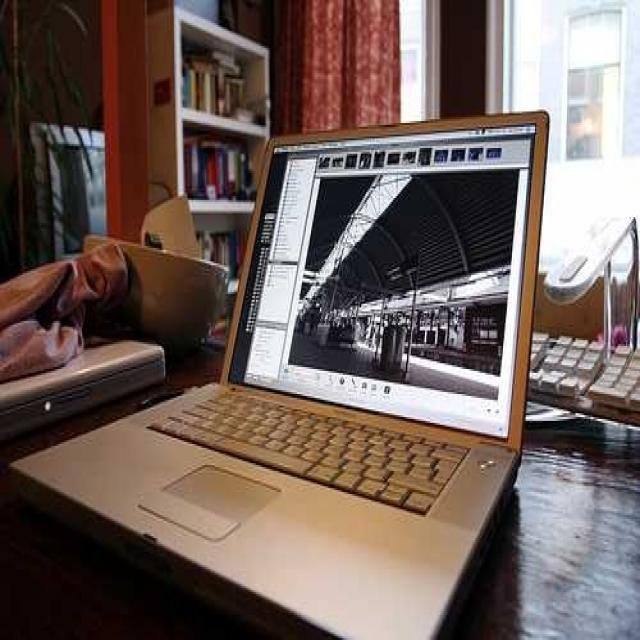laptop: (22, 128, 541, 611)
